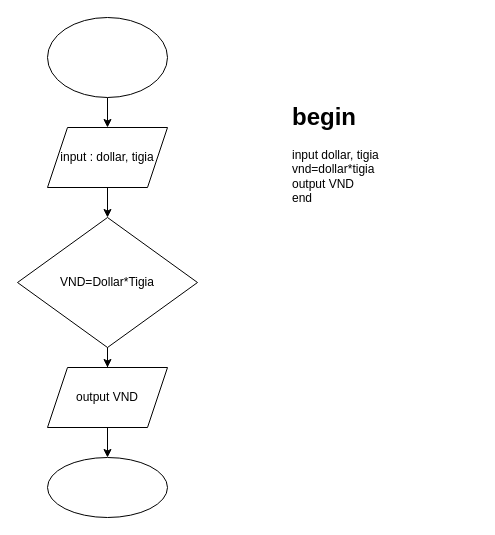
The diagram is 495 pixels wide and 535 high, and some of its shapes have lost their labels. The centre of each missing label's shape, as x and y in pixels:
"begin" belongs at point (107, 57).
"End" belongs at point (107, 487).
